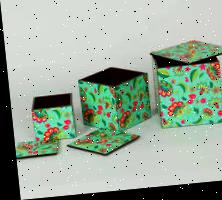cube: (75, 66, 152, 136), (151, 60, 222, 133), (29, 93, 73, 141)
